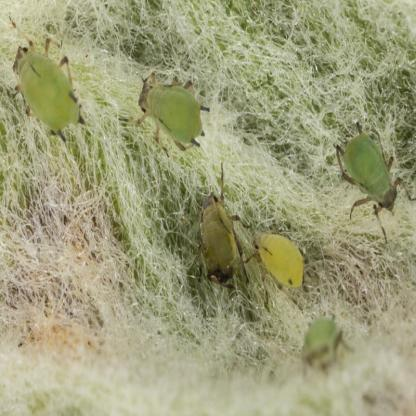aphid: (8, 14, 89, 146), (192, 170, 253, 292), (128, 69, 212, 156), (246, 208, 310, 299)
